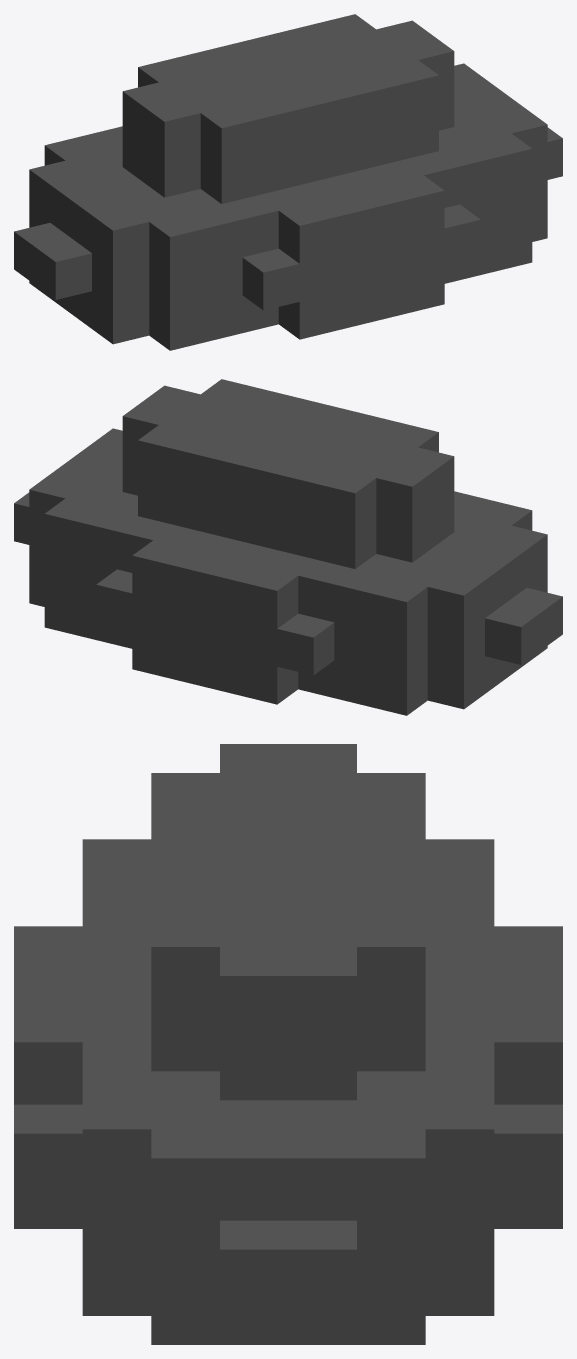
Rendered from pedra-4.obj.
3 renders of one model, top to bottom at view 1: azimuth 30°, elevation 25°; view 2: azimuth 150°, elevation 25°; view 3: azimuth 270°, elevation 25°, orthographic. The views are drawn at different scales.
Bounding box in the file's own units: 1.4 × 0.5 × 0.8.
1 material, 1 textured.
